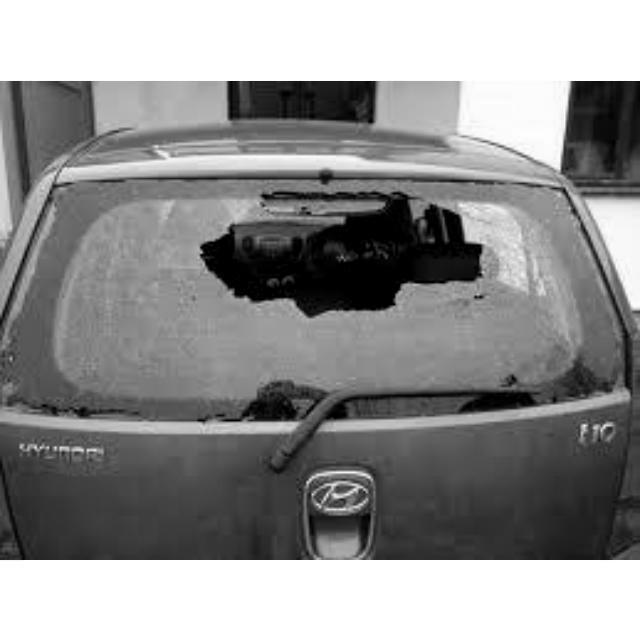Rear-windscreen-Damage: (3, 159, 633, 435)
